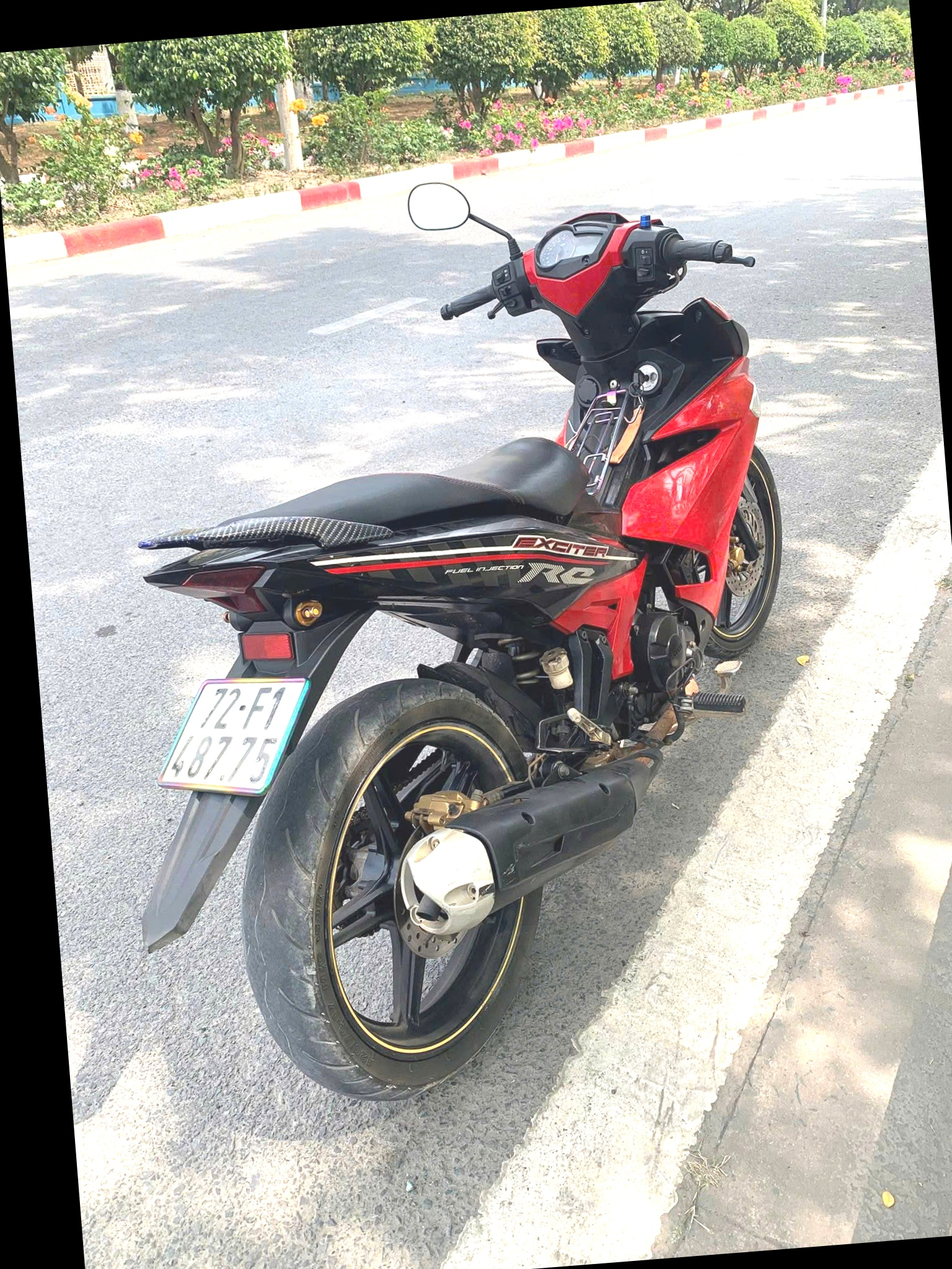Bien-so: (151, 672, 312, 805)
